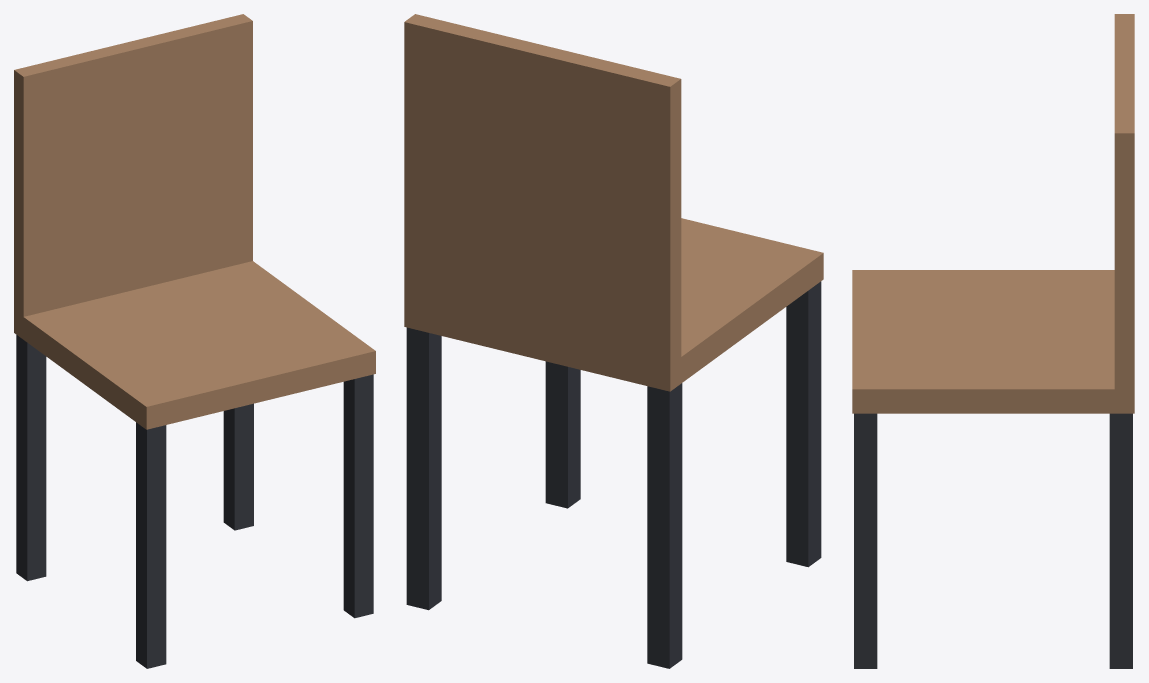
Rendered from chair.glb.
3 views of the same model, side by side, from view 1: azimuth 30°, elevation 25°; view 2: azimuth 150°, elevation 25°; view 3: azimuth 270°, elevation 25° (orthographic). The views are drawn at different scales.
Visible parts, largest first — view 1: box (×6); view 2: box (×6); view 3: box (×4).
Boxes of the visible parts, bbox=[...] form: box (×6): bbox=[14, 14, 375, 668]; box (×6): bbox=[404, 14, 823, 668]; box (×4): bbox=[852, 14, 1134, 668].
Bounding box in the file's own units: 0.42 × 0.88 × 0.42.
